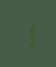one: (19, 19, 34, 47)
